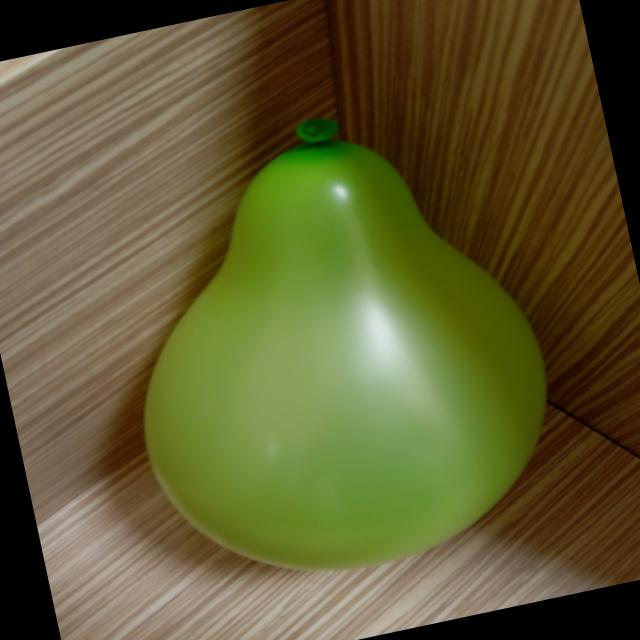balloon: (144, 119, 546, 569)
